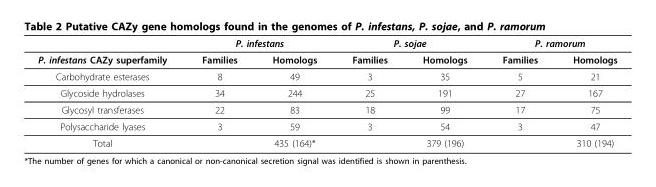table: (37, 37, 616, 148)
table column: (37, 37, 183, 148), (404, 37, 484, 148), (254, 37, 333, 148), (183, 37, 254, 148), (333, 37, 404, 148), (484, 37, 554, 148), (554, 37, 616, 148)
table column header: (37, 37, 616, 67)
table row: (37, 67, 616, 84), (37, 84, 616, 101), (37, 117, 616, 134), (37, 51, 616, 67), (37, 101, 616, 117), (37, 37, 616, 51), (37, 134, 616, 148)
table spanning cell: (37, 37, 183, 67), (333, 37, 484, 51), (183, 37, 333, 51), (484, 37, 616, 51)
